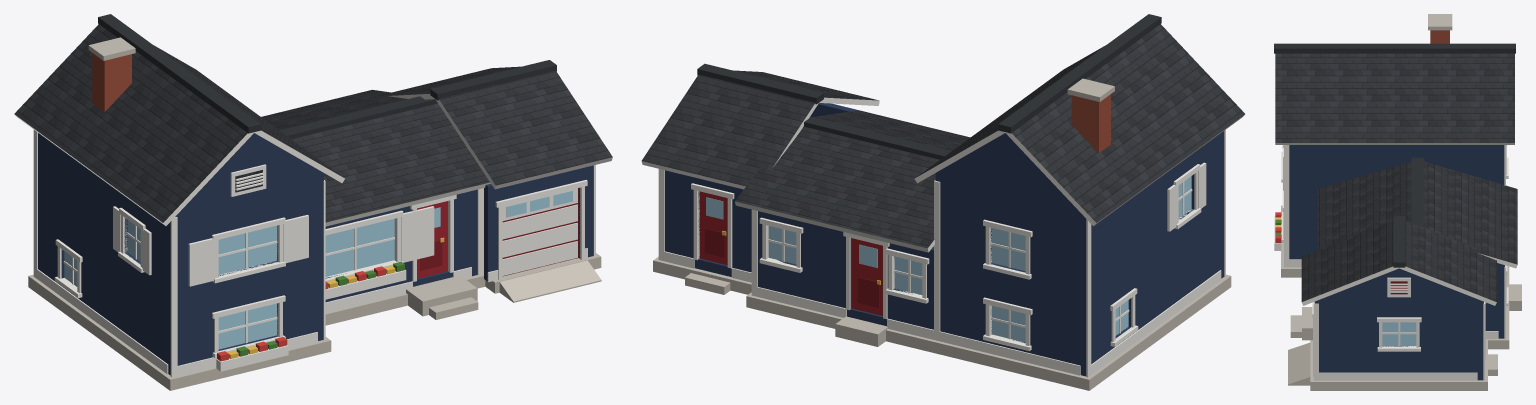
The model's file is base-06-level2.glb.
3 views of the same model, side by side, from view 1: azimuth 30°, elevation 25°; view 2: azimuth 150°, elevation 25°; view 3: azimuth 270°, elevation 25° (orthographic). The views are drawn at different scales.
Parts seen in each view (by area): view 1: base_house_6_finished, piece_garage; view 2: base_house_6_finished, piece_garage; view 3: base_house_6_finished, piece_garage.
Boxes of the visible parts, box(x1,y1,x2,y2) form: base_house_6_finished: box(14, 14, 490, 390); piece_garage: box(388, 60, 612, 302); base_house_6_finished: box(735, 14, 1244, 390); piece_garage: box(641, 63, 879, 294); base_house_6_finished: box(1274, 14, 1521, 349); piece_garage: box(1288, 216, 1497, 390).
Bounding box in the file's own units: 15.39 × 8.23 × 8.79.
15 materials, 1 textured.
